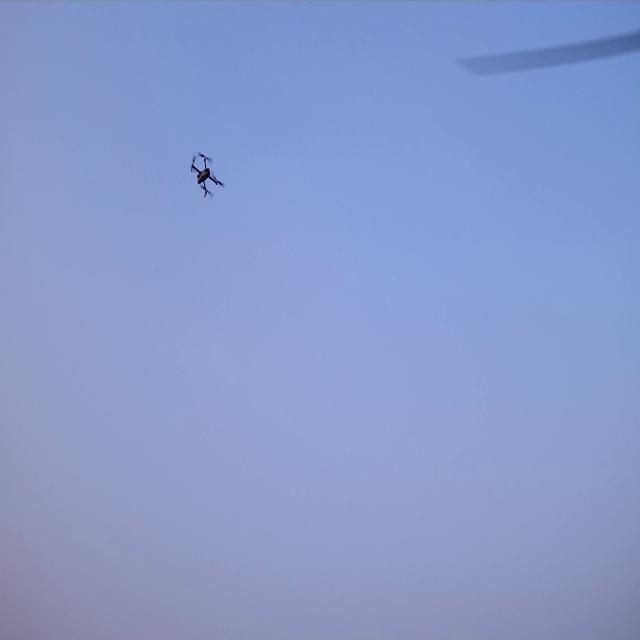UAV: (191, 154, 221, 197)
